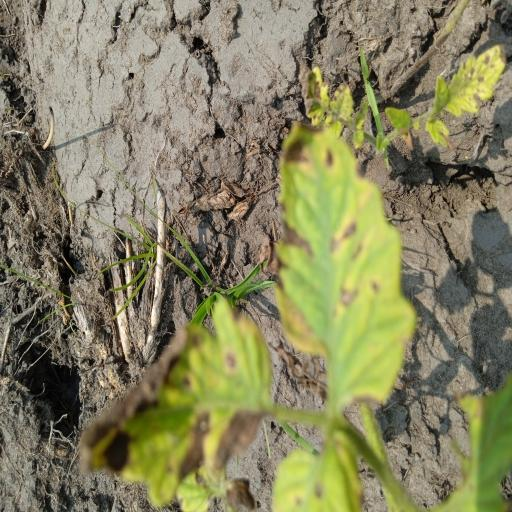Tomato_Brown_Spots: (271, 125, 413, 423), (83, 293, 274, 499)
